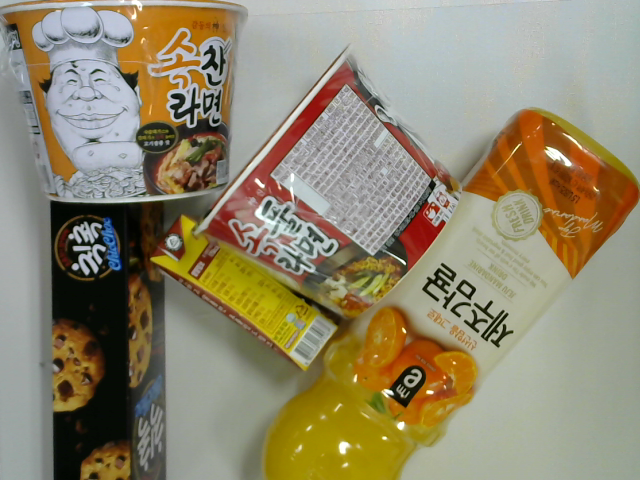Chicchok_Original_2400: (48, 197, 169, 479)
Choco_E_Mong: (147, 212, 342, 375)
Hejangchan: (1, 1, 249, 206)
Hejangpul: (191, 42, 461, 321)
Jeju_Tangerine_1.5L: (261, 107, 639, 480)
